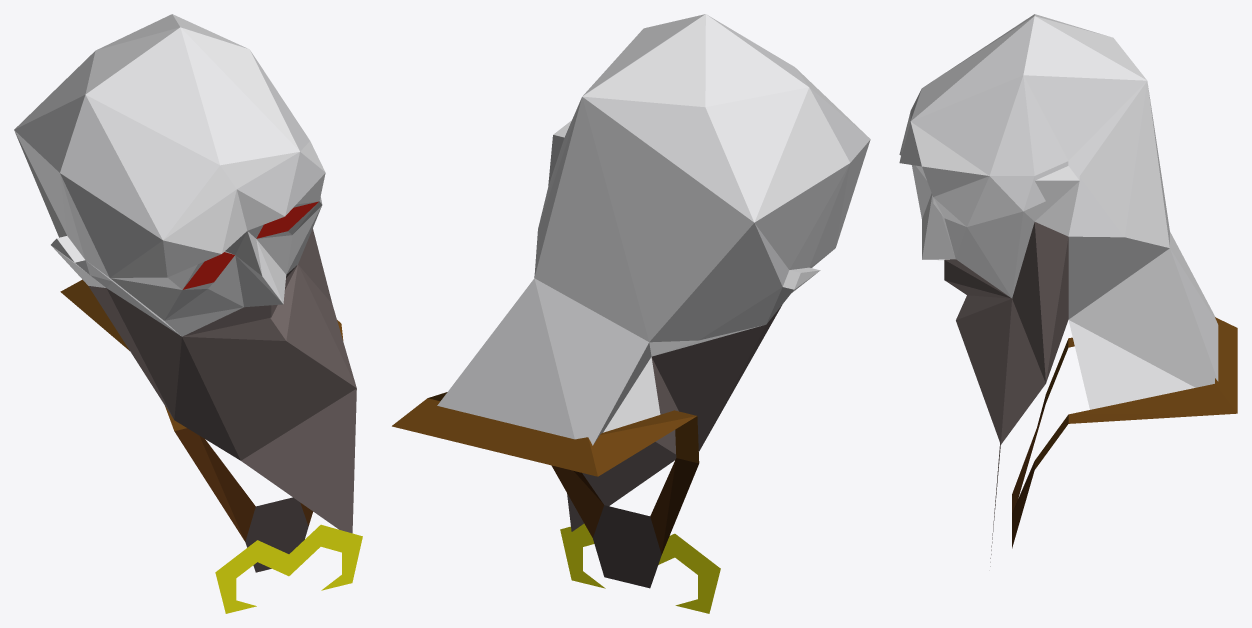
File: model_2962_npc.obj
3 renders of one model, left to right at view 1: azimuth 30°, elevation 25°; view 2: azimuth 150°, elevation 25°; view 3: azimuth 270°, elevation 25°, orthographic. The views are drawn at different scales.
Visible parts, largest first — view 1: 2962; view 2: 2962; view 3: 2962.
Part boxes in pixels (x1,y1,x2,y2): 2962: (14,14,362,613); 2962: (392,14,870,613); 2962: (899,14,1237,566).
Bounding box in the file's own units: 29 × 52 × 30.
